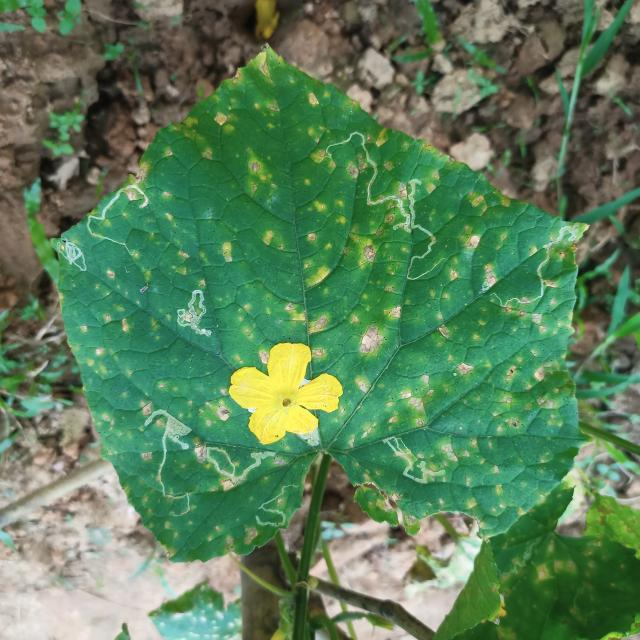disease_cucumber: (81, 63, 560, 537)
